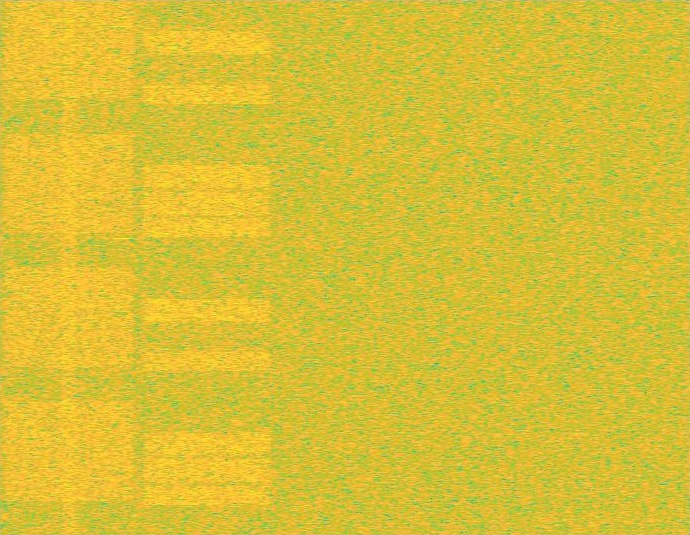5G: (0, 0, 138, 534)
DSSS: (60, 0, 78, 534)
LTE: (138, 0, 276, 534)
Radar: (115, 0, 129, 534)
